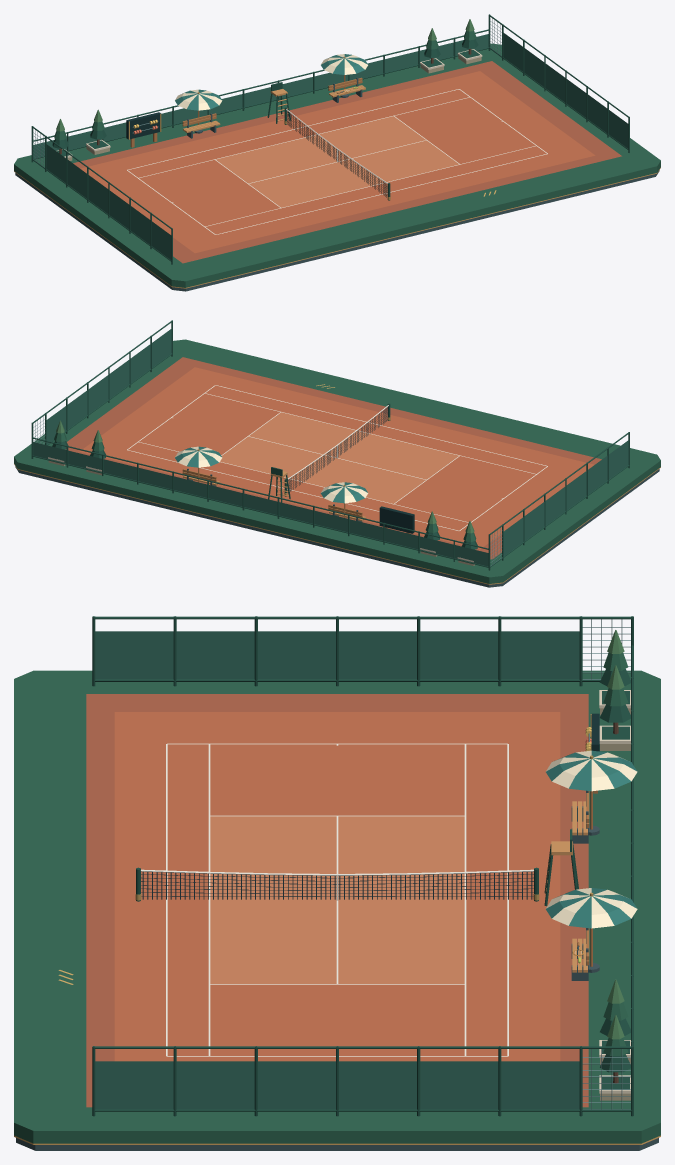
The model's file is tennis.glb.
3 renders of one model, top to bottom at view 1: azimuth 30°, elevation 25°; view 2: azimuth 150°, elevation 25°; view 3: azimuth 270°, elevation 25°, orthographic. The views are drawn at different scales.
Visible parts, largest first — view 1: SM_TN_Court, SM_TN_Ground, SM_TN_Fences, SM_TN_Clubhouse, SM_TN_Net; view 2: SM_TN_Court, SM_TN_Ground, SM_TN_Fences, SM_TN_Clubhouse, SM_TN_Net; view 3: SM_TN_Court, SM_TN_Ground, SM_TN_Fences, SM_TN_Clubhouse, SM_TN_Net.
Boxes of the visible parts, left/top/right/bottom form: SM_TN_Court: left=73, top=61, right=621, bottom=263; SM_TN_Ground: left=14, top=43, right=660, bottom=291; SM_TN_Fences: left=31, top=14, right=629, bottom=264; SM_TN_Clubhouse: left=52, top=19, right=482, bottom=160; SM_TN_Net: left=284, top=107, right=390, bottom=200; SM_TN_Court: left=65, top=357, right=601, bottom=559; SM_TN_Ground: left=14, top=339, right=660, bottom=587; SM_TN_Fences: left=31, top=320, right=629, bottom=570; SM_TN_Clubhouse: left=48, top=420, right=477, bottom=565; SM_TN_Net: left=284, top=403, right=390, bottom=496; SM_TN_Court: left=58, top=694, right=588, bottom=1107; SM_TN_Ground: left=14, top=670, right=660, bottom=1150; SM_TN_Fences: left=92, top=616, right=633, bottom=1116; SM_TN_Clubhouse: left=544, top=630, right=637, bottom=1100; SM_TN_Net: left=135, top=867, right=539, bottom=901.
Size of the model in its own units: 35 by 3.51 by 20.8.
1 material, 1 textured.
